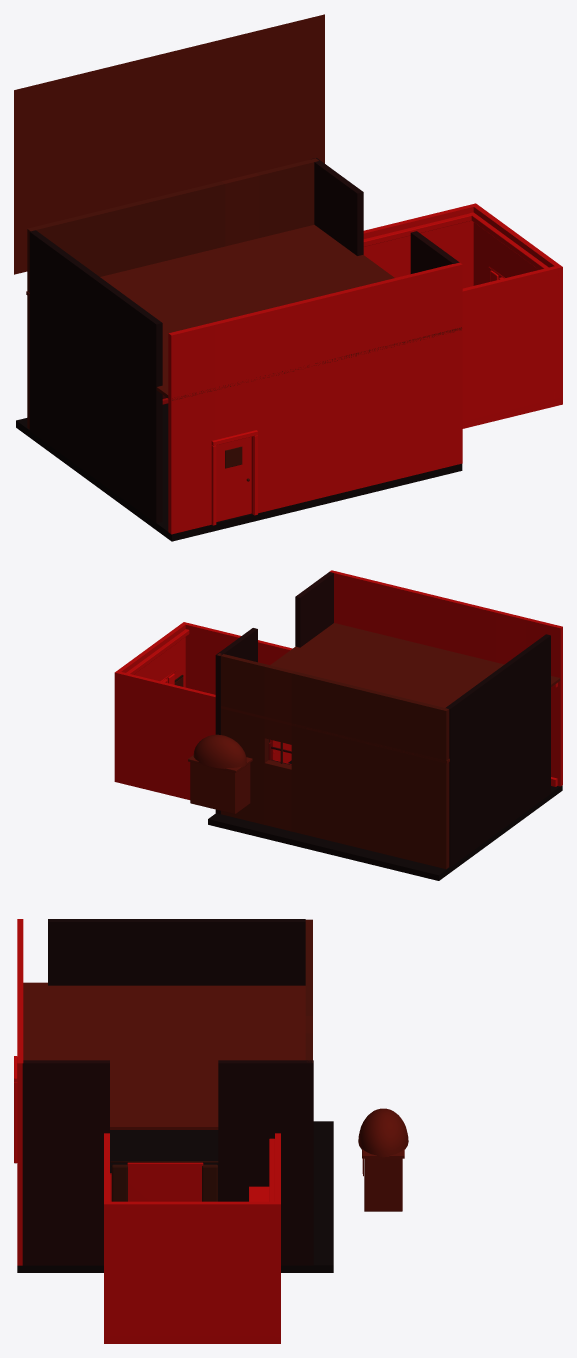
File: workshop.glb
3 views of the same model, one above another, from view 1: azimuth 30°, elevation 25°; view 2: azimuth 150°, elevation 25°; view 3: azimuth 270°, elevation 25° (orthographic). The views are drawn at different scales.
Parts seen in each view (by area): view 1: plain, outlined, door; view 2: plain, outlined; view 3: plain, outlined.
Part boxes in pixels (x1,y1,x2,y2): plain: (14, 14, 462, 541); outlined: (162, 203, 562, 534); door: (216, 437, 251, 521); plain: (174, 572, 562, 880); outlined: (114, 570, 562, 799); plain: (17, 919, 408, 1272); outlined: (14, 919, 280, 1343).
Size of the model in its own units: 12.56 by 6.3 by 13.53.
